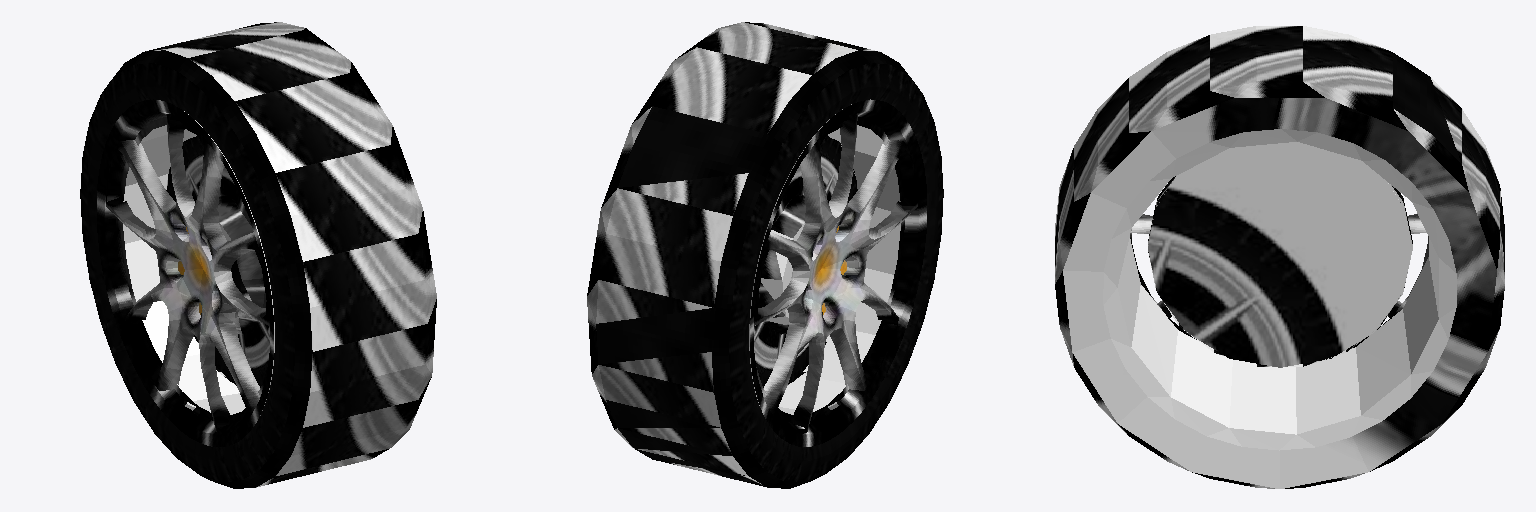
3 renders of one model, left to right at view 1: azimuth 30°, elevation 25°; view 2: azimuth 150°, elevation 25°; view 3: azimuth 270°, elevation 25°, orthographic.
Visible parts, largest first — view 1: part_026; view 2: part_026; view 3: part_026.
Boxes of the visible parts, box(x1,y1,x2,y2) form: part_026: box(80, 22, 436, 488); part_026: box(587, 22, 943, 488); part_026: box(1055, 26, 1504, 488).
Size of the model in its own units: 0.2463 by 0.6574 by 0.6612.
1 materials, 1 textured.